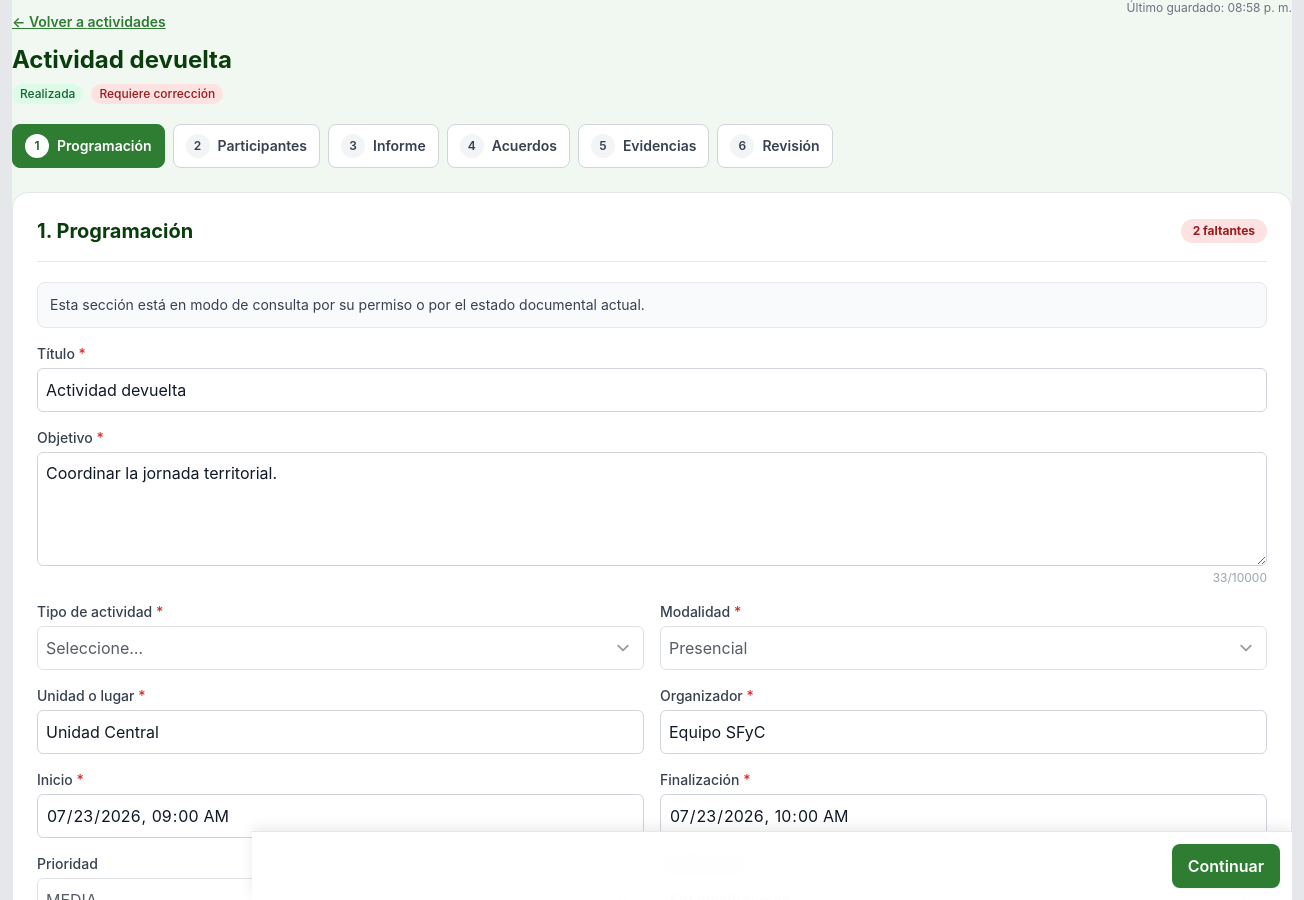
Test: wizard de Bitácora › presenta a Secretaría el detalle completo y la última devolución
Check: the text "Último guardado: 08:58 p. m." is shown, box [1127,0,1292,16]
Click the button "6 Revisión": (775,146) [717,124,833,168]
(page scrolled)
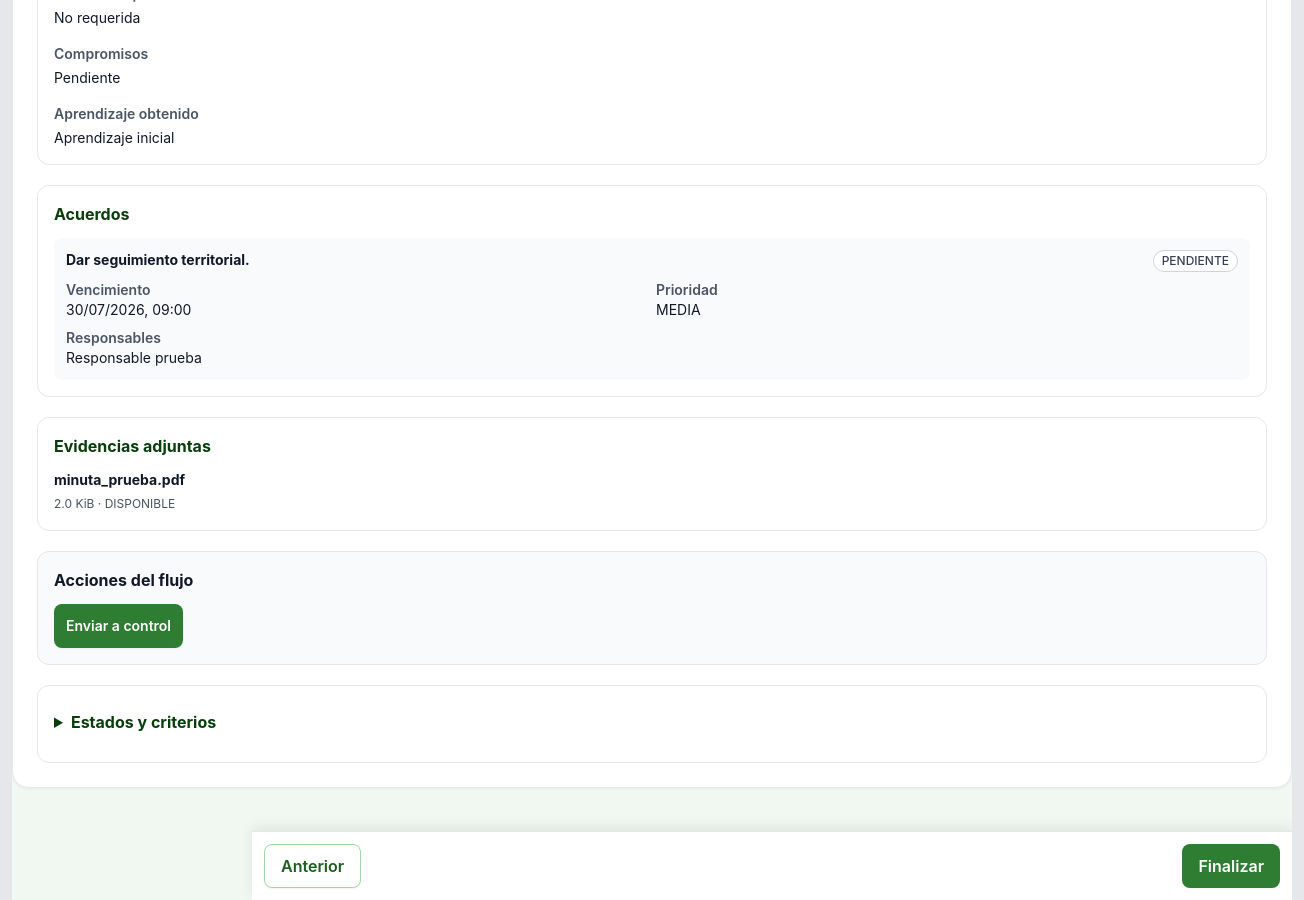
Check: the heading "Dar seguimiento territorial." is shown, box [66,250,250,270]
Check: the text "Responsable prueba" is shown, box [66,349,202,366]
Check: the text "minuta_prueba.pdf" is shown, box [54,471,185,488]
